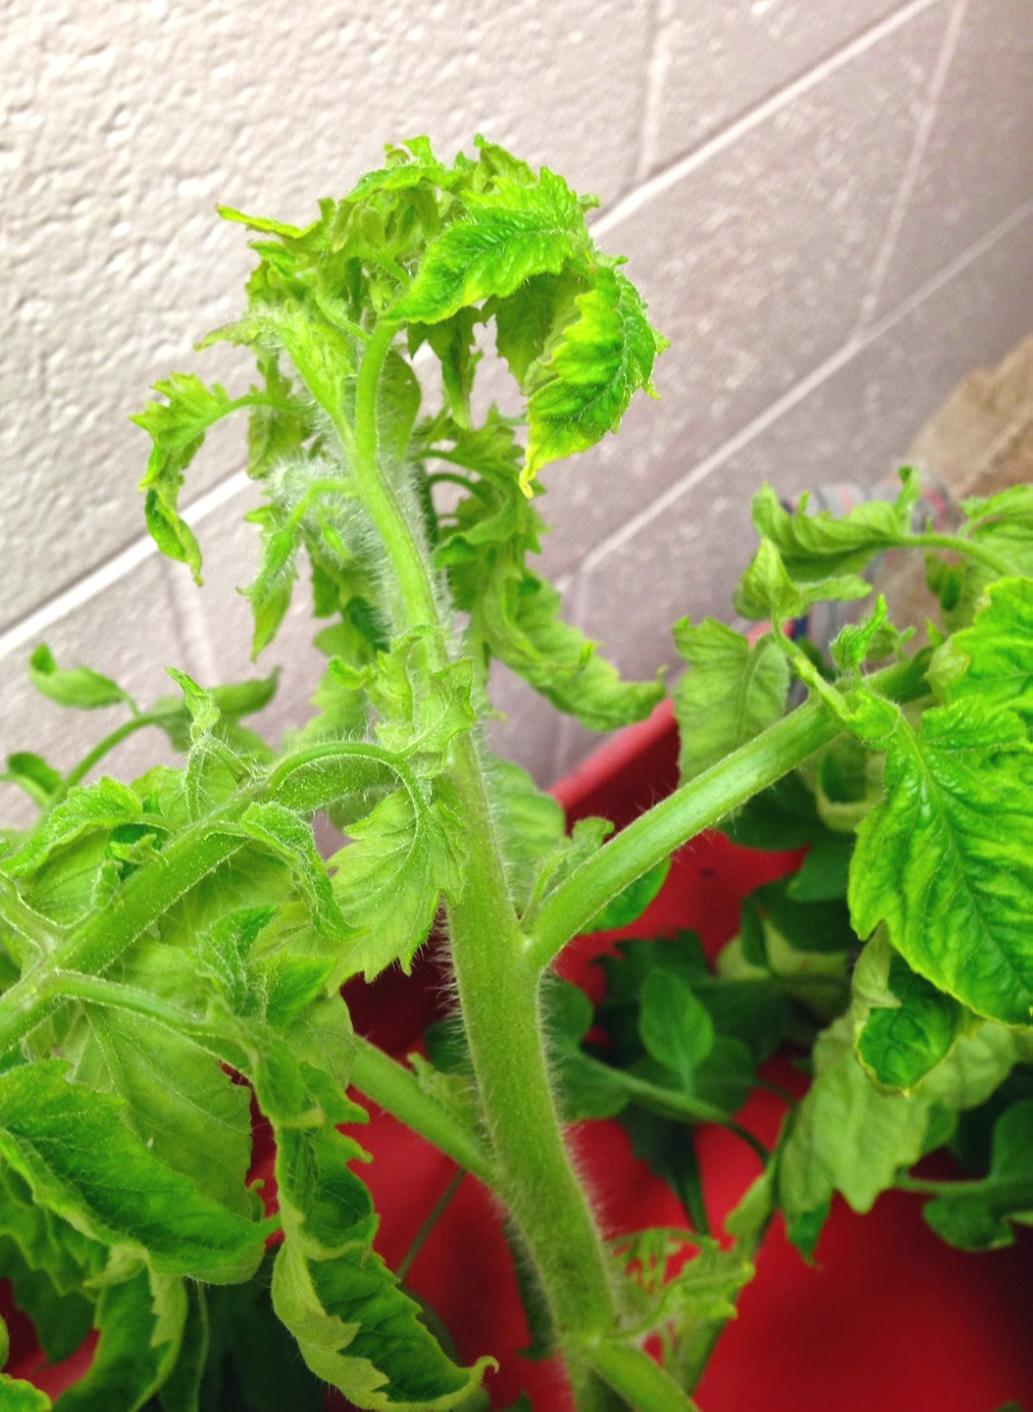Tomato leaf yellow virus: (241, 1021, 488, 1412), (822, 667, 1033, 1034), (0, 1051, 259, 1307), (493, 263, 676, 532), (269, 762, 463, 992), (370, 145, 577, 358)
